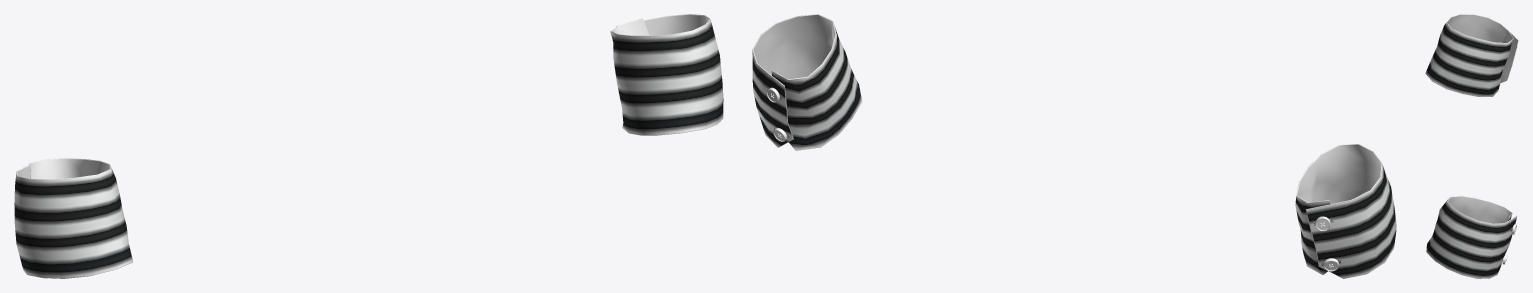
Rendered from 2_Button_Notch.glb.
The picture shows the model from 3 angles, left to right: view 1: azimuth 30°, elevation 25°; view 2: azimuth 150°, elevation 25°; view 3: azimuth 270°, elevation 25°; orthographic projection. The views are drawn at different scales.
Visible parts, largest first — view 1: Pattern_2052445_Node, Pattern_2052450_Node, inner_Node, inner_Node001; view 2: Pattern_2052450_Node, Pattern_2052445_Node, inner_Node001, inner_Node; view 3: Pattern_2052450_Node, Pattern_2052445_Node, inner_Node, inner_Node001.
Boxes of the visible parts, <box> form: Pattern_2052445_Node: <box>14,158,132,278</box>; Pattern_2052450_Node: <box>610,14,723,135</box>; inner_Node: <box>17,158,110,278</box>; inner_Node001: <box>611,14,709,35</box>; Pattern_2052450_Node: <box>752,14,862,150</box>; Pattern_2052445_Node: <box>1295,144,1396,278</box>; inner_Node001: <box>753,14,835,147</box>; inner_Node: <box>1296,144,1381,277</box>; Pattern_2052450_Node: <box>1426,196,1517,278</box>; Pattern_2052445_Node: <box>1425,14,1517,96</box>; inner_Node: <box>1446,14,1518,83</box>; inner_Node001: <box>1447,196,1516,223</box>.
Size of the model in its own units: 59.97 by 9.98 by 11.45.
Materials: 16 (6 with a texture image).
